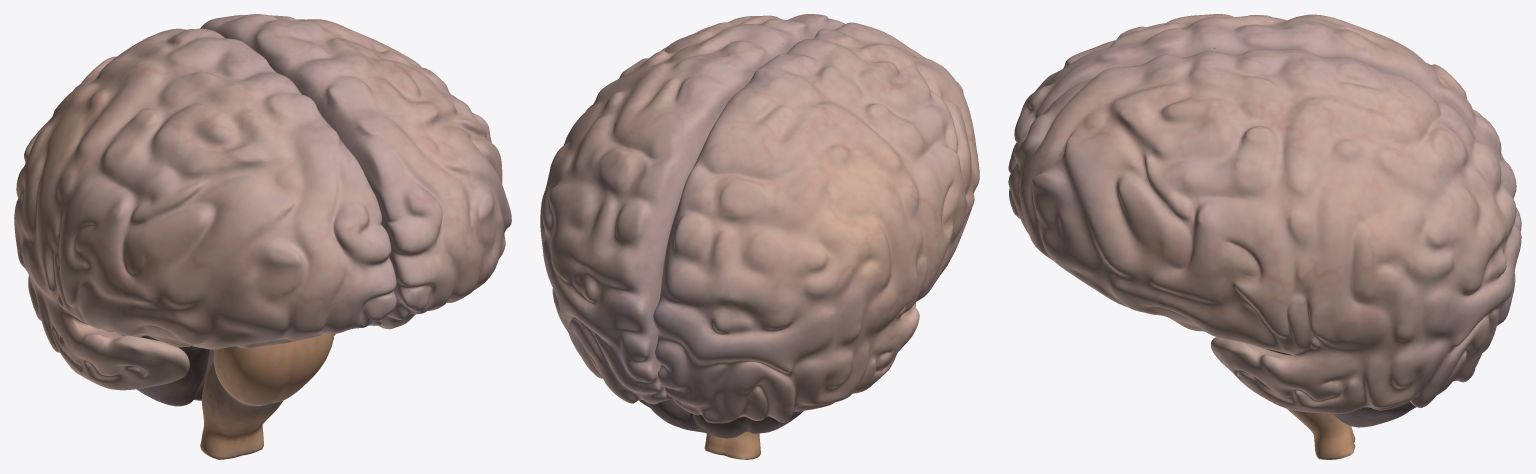
Rendered from brain.fbx.
3 renders of one model, left to right at view 1: azimuth 30°, elevation 25°; view 2: azimuth 150°, elevation 25°; view 3: azimuth 270°, elevation 25°, orthographic. The views are drawn at different scales.
Visible parts, largest first — view 1: brain_male_brain-hi.001; view 2: brain_male_brain-hi.001; view 3: brain_male_brain-hi.001.
Part boxes in pixels (x1,y1,x2,y2): brain_male_brain-hi.001: (14,14,511,459); brain_male_brain-hi.001: (540,14,979,459); brain_male_brain-hi.001: (1008,14,1521,459).
Bounding box in the file's own units: 13.84 × 13.97 × 15.9.
12 materials, 12 textured.
